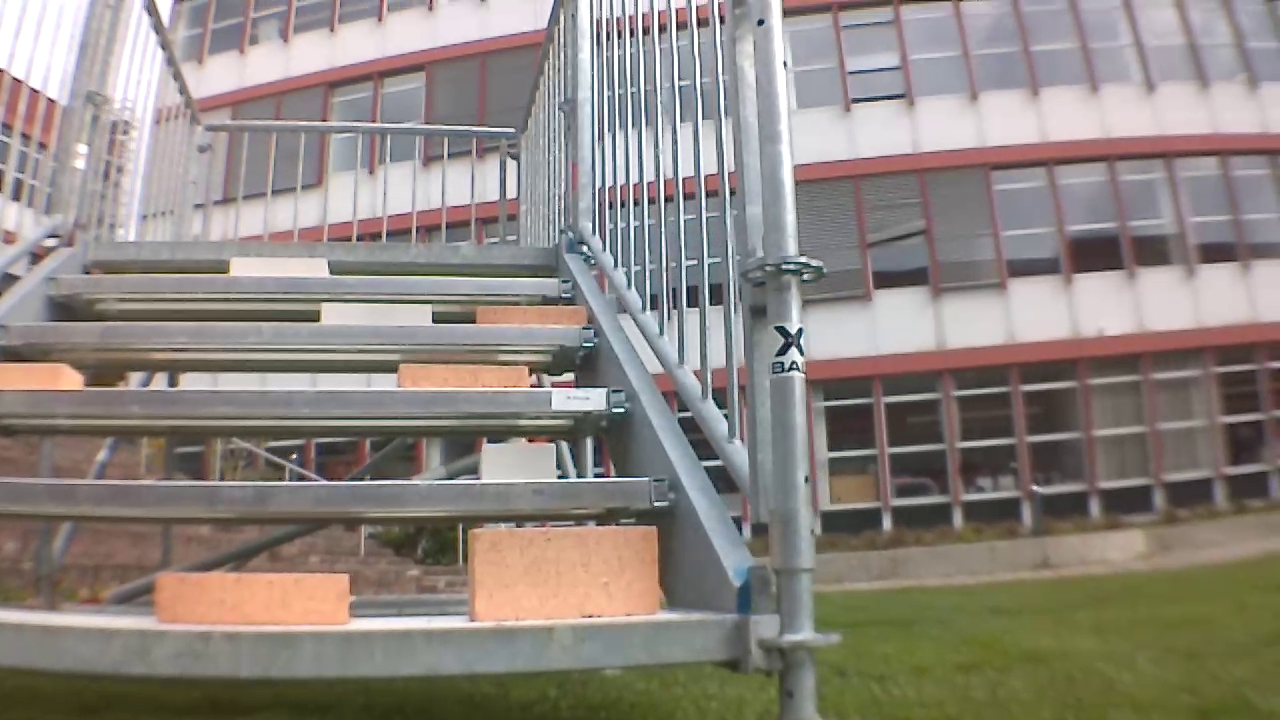brick: (458, 514, 668, 627), (151, 570, 354, 624), (393, 360, 535, 389), (469, 441, 564, 484), (316, 295, 440, 324), (0, 358, 93, 391), (469, 301, 587, 326), (224, 249, 338, 274)
edge: (0, 385, 634, 416), (25, 272, 567, 301), (0, 328, 616, 344), (72, 249, 564, 265)
stairs: (0, 0, 817, 703)
steps: (0, 238, 750, 680)
